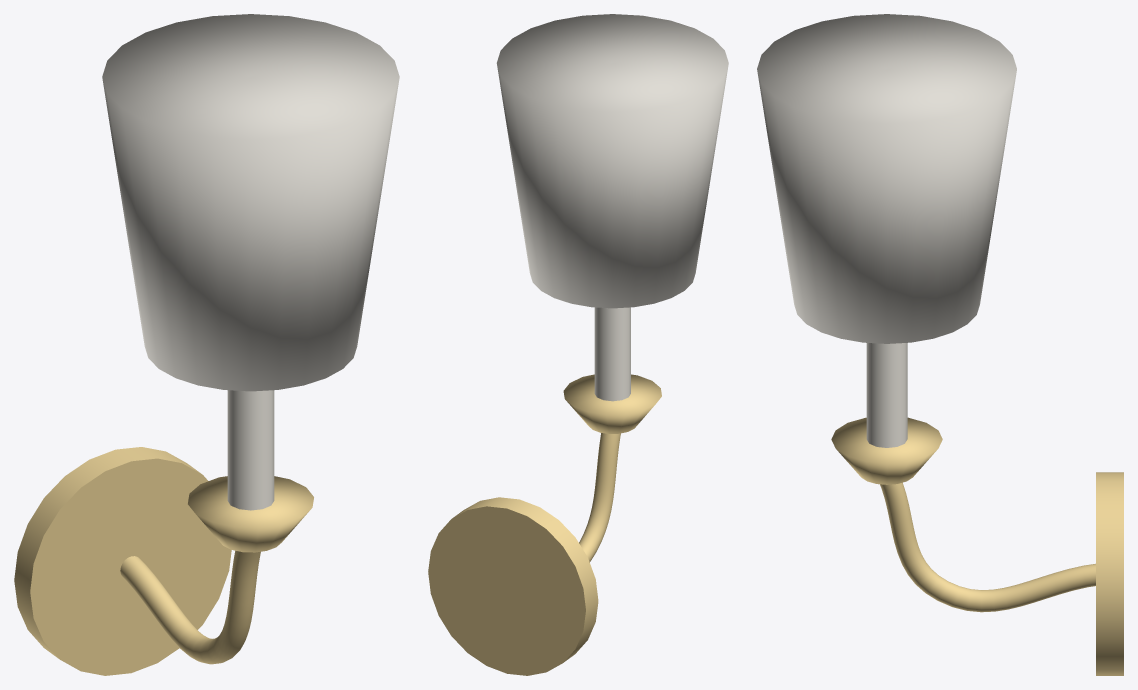
File: sconce.glb
The picture shows the model from 3 angles, left to right: view 1: azimuth 30°, elevation 25°; view 2: azimuth 150°, elevation 25°; view 3: azimuth 270°, elevation 25°; orthographic projection. The views are drawn at different scales.
Visible parts, largest first — view 1: shade, plate, arm, cup, candle; view 2: shade, plate, cup, candle, arm; view 3: shade, arm, plate, cup, candle.
Part boxes in pixels (x1,y1,x2,y2): shade: (102,14,399,391); plate: (14,447,231,675); arm: (120,550,260,664); cup: (188,476,313,552); candle: (227,390,274,510); shade: (496,14,728,308); plate: (428,497,598,675); cup: (563,374,661,433); candle: (594,307,630,401); arm: (579,433,620,562); shade: (757,14,1016,343); arm: (880,482,1095,612); plate: (1096,472,1123,675); cup: (831,417,942,484); candle: (866,343,907,447).
Bounding box in the file's own units: 0.14 × 0.355 × 0.1975.
